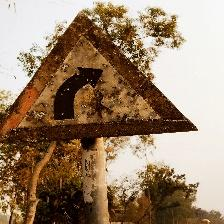Right-turn: (1, 9, 196, 143)
